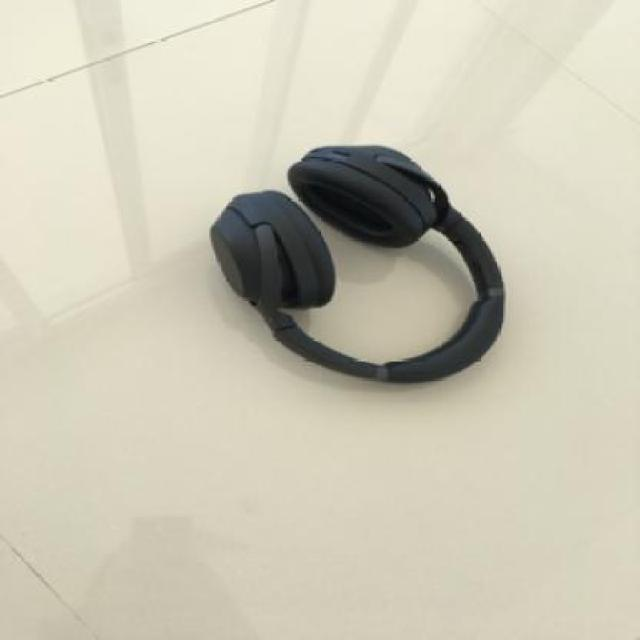earphone: (195, 105, 543, 463)
